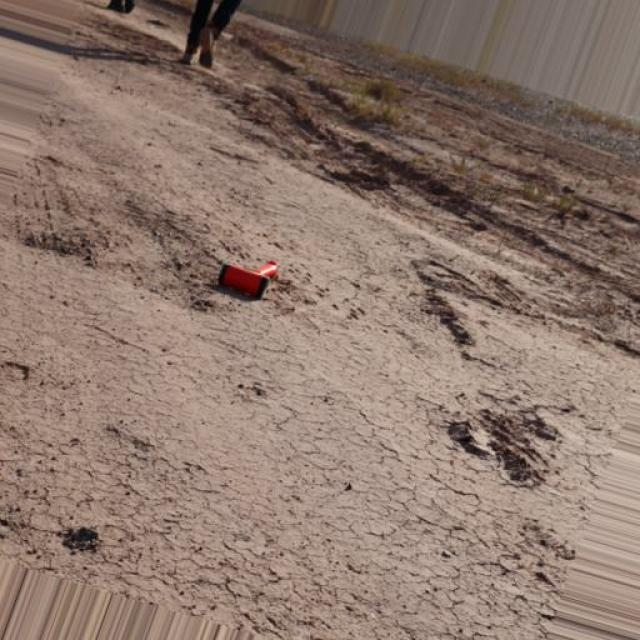mallet: (216, 258, 279, 298)
